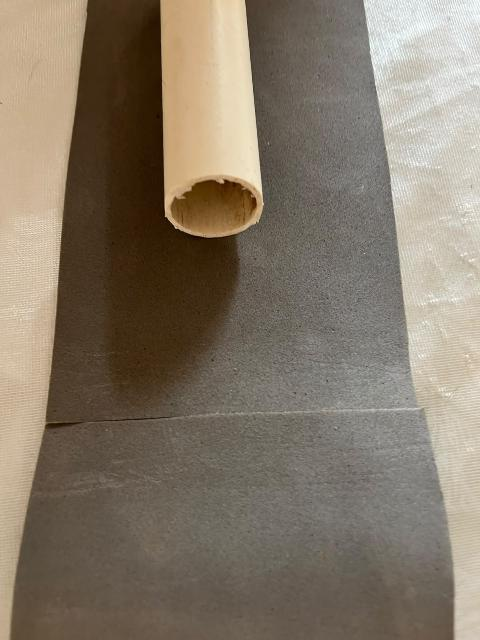PVC: (129, 0, 291, 280)
